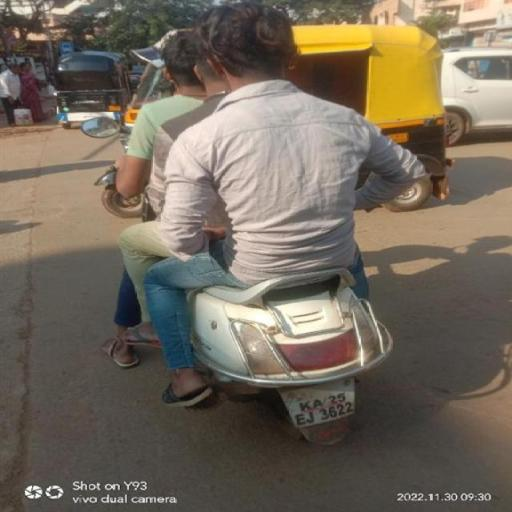tripple riding: (101, 0, 424, 267)
